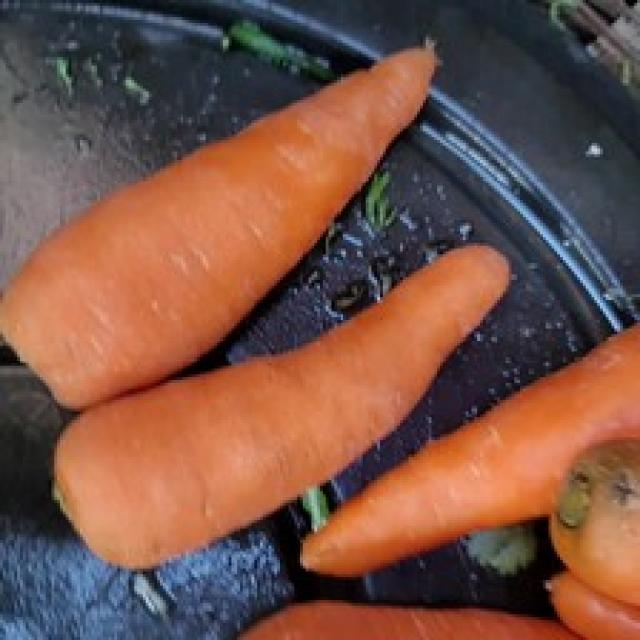Fresh_Carrot: (0, 52, 436, 408), (55, 246, 505, 568)
